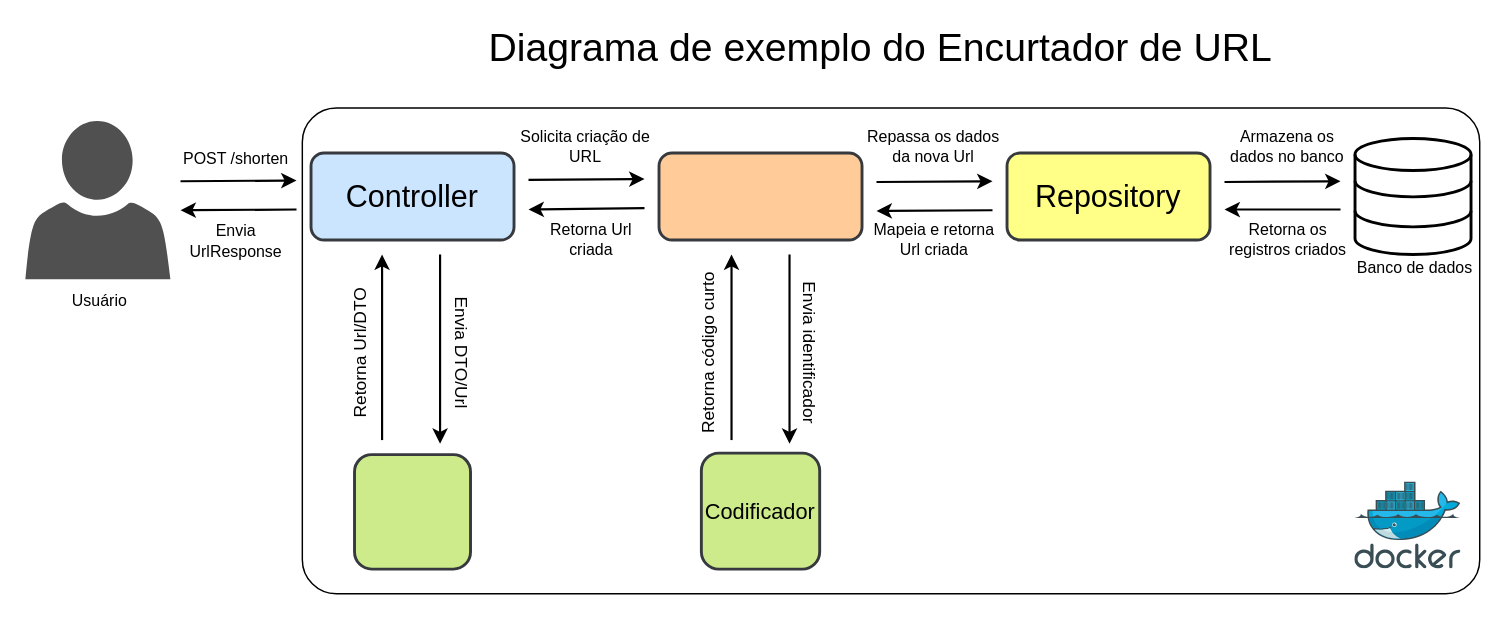
This 1505x619 diagram has some shape labels left out. The centre of each missing label's shape, as x and y in pixels:
Mapper: the point at 411,511
Service: the point at 760,196
